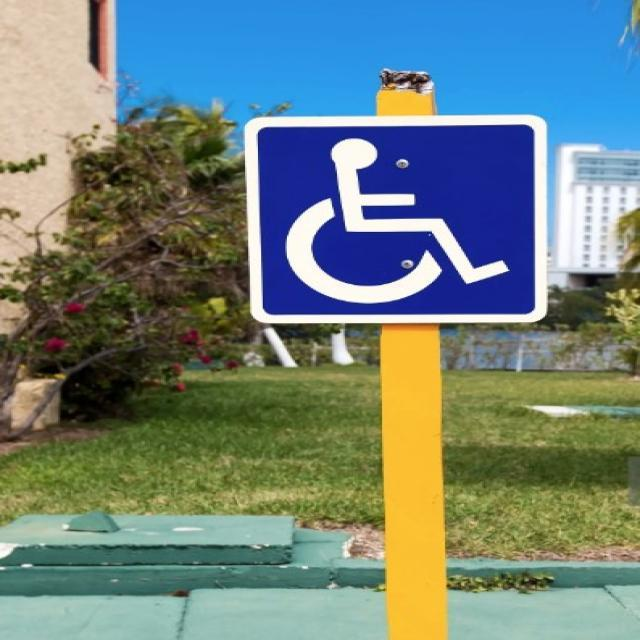symbol_of_access: (242, 112, 552, 327)
